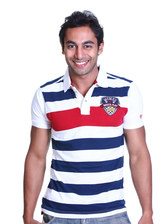clothoes: (31, 60, 150, 217)
